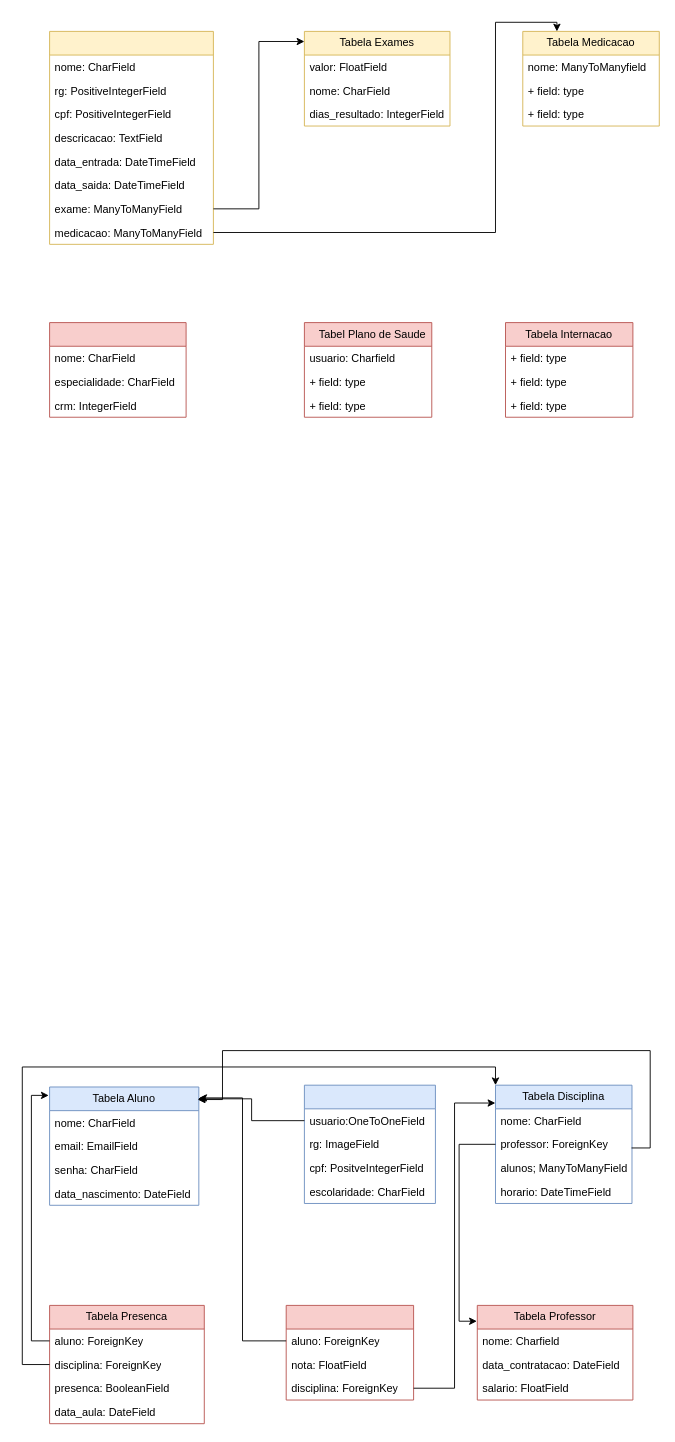
Some shapes in this 675 by 1442 pixel diagram are drawn without their labels. Each missing label, with the box of its shape:
Tabela Documentos: (303, 1084, 435, 1203)
Tabela Doutor(a): (49, 322, 186, 417)
Tabela Nota: (285, 1304, 414, 1400)
Tabela Paciente: (49, 30, 213, 244)
